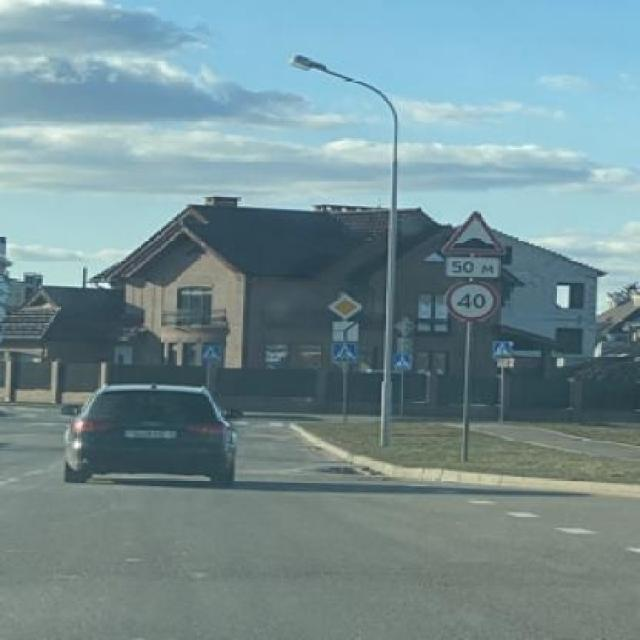forb_speed_over_40: (446, 280, 500, 323)
